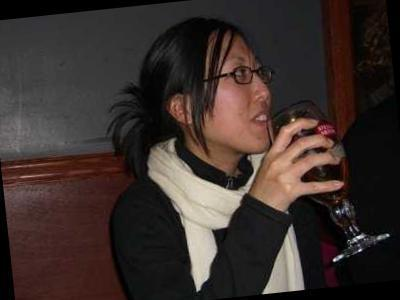Drunk: (206, 35, 277, 155)
